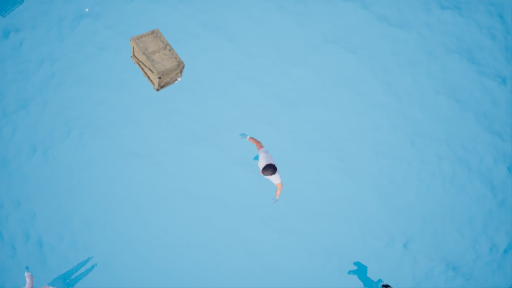person: (236, 131, 289, 198)
